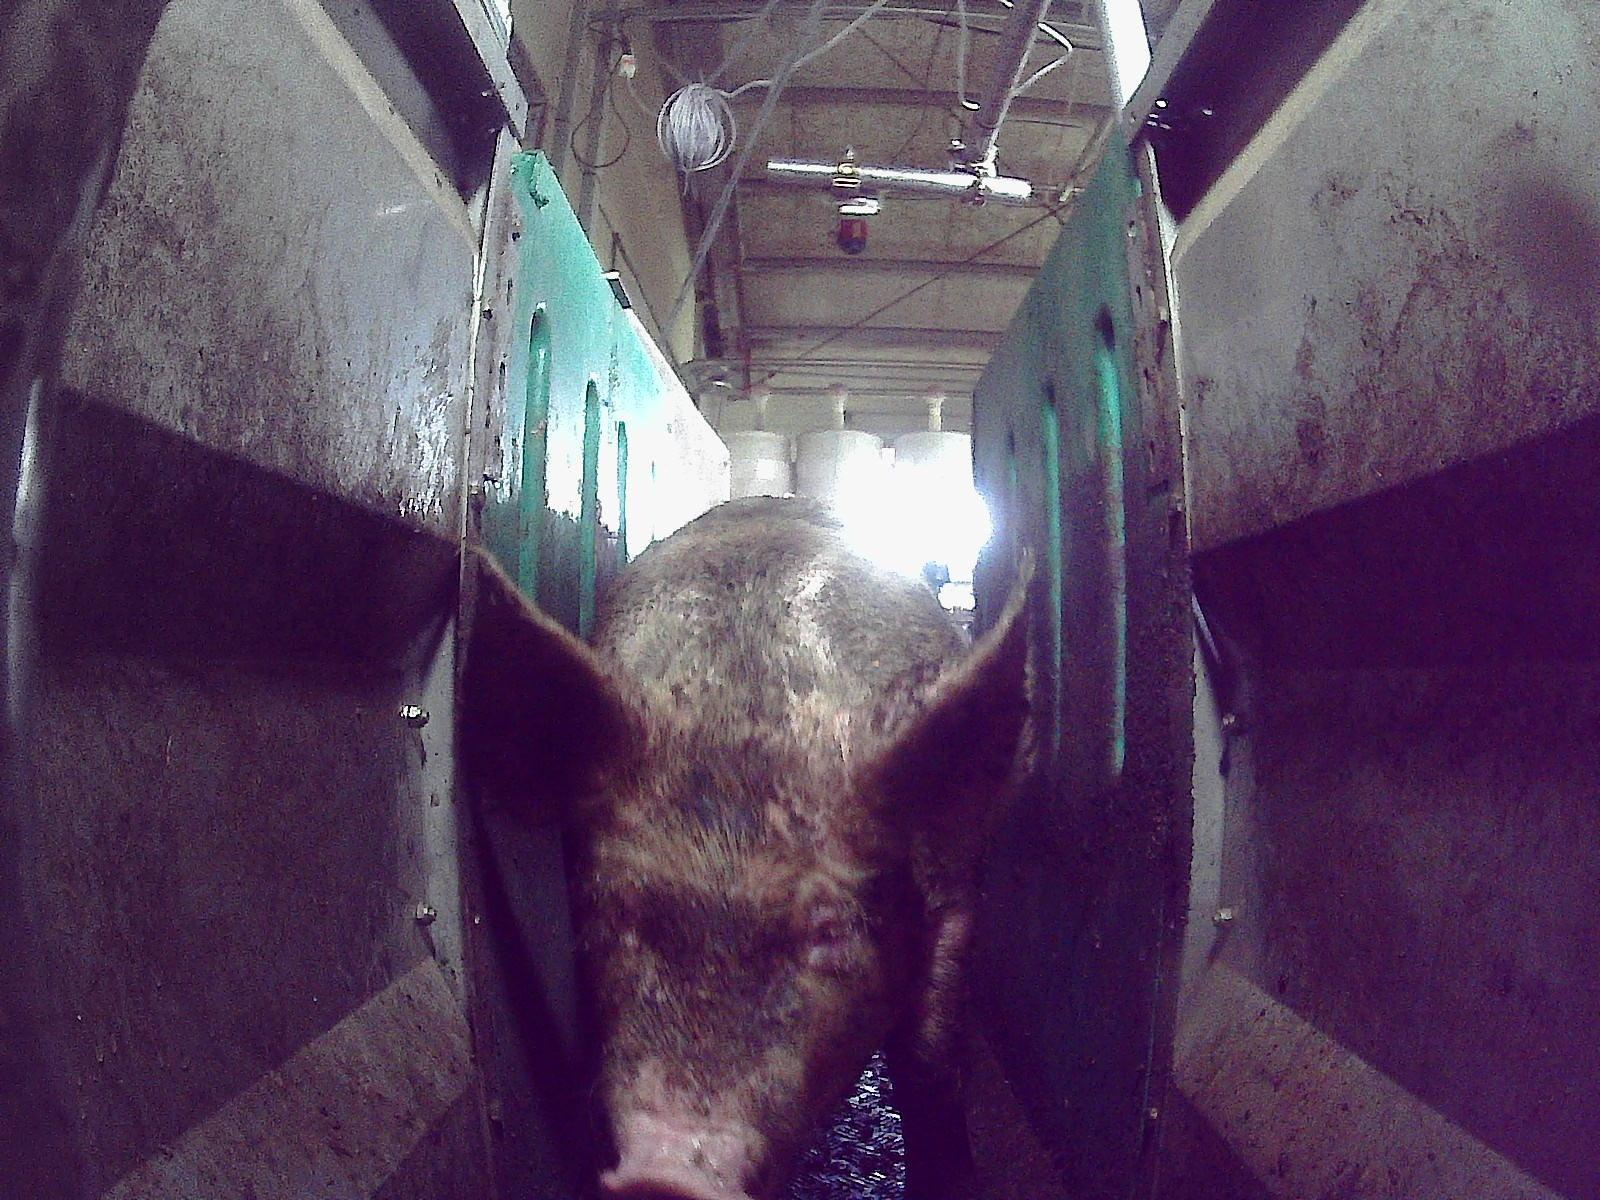Face: (578, 676, 925, 1199)
